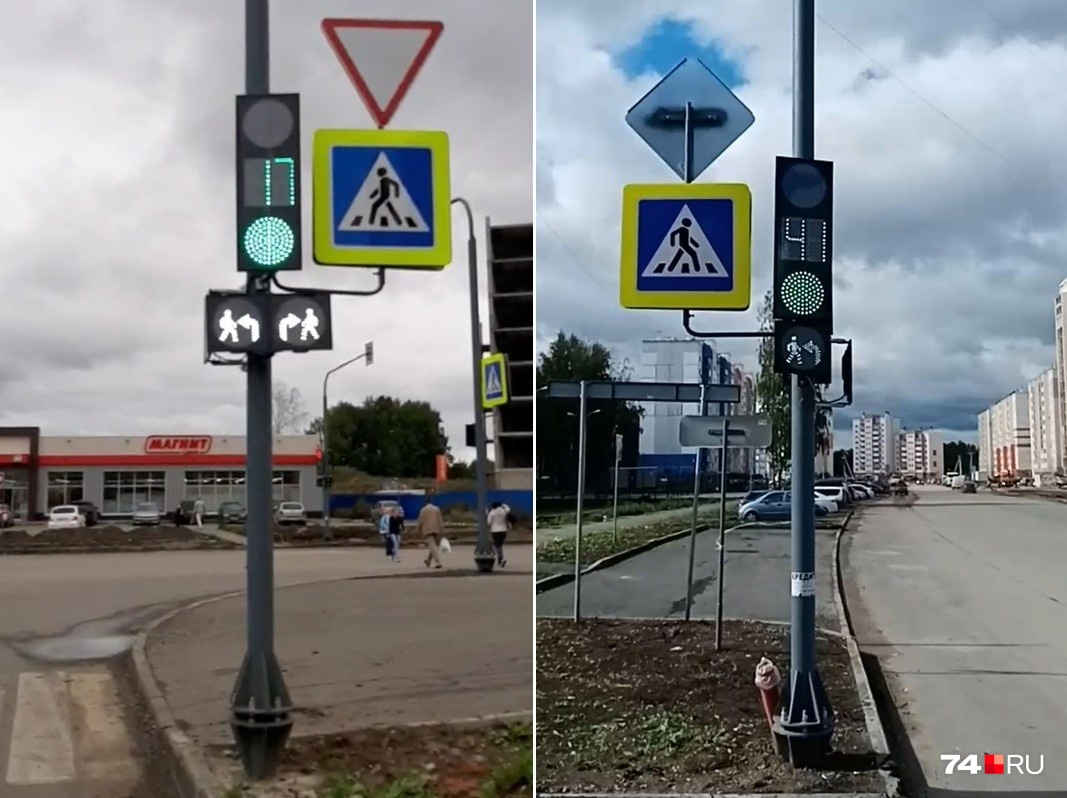tl: (773, 153, 838, 379), (236, 95, 306, 268)
